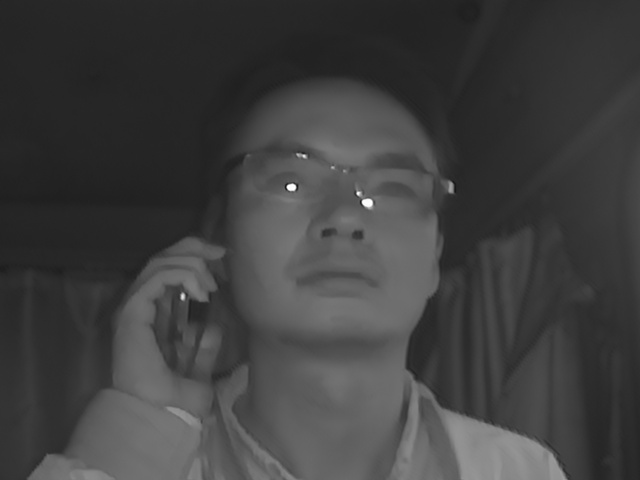hand: (101, 233, 221, 415)
